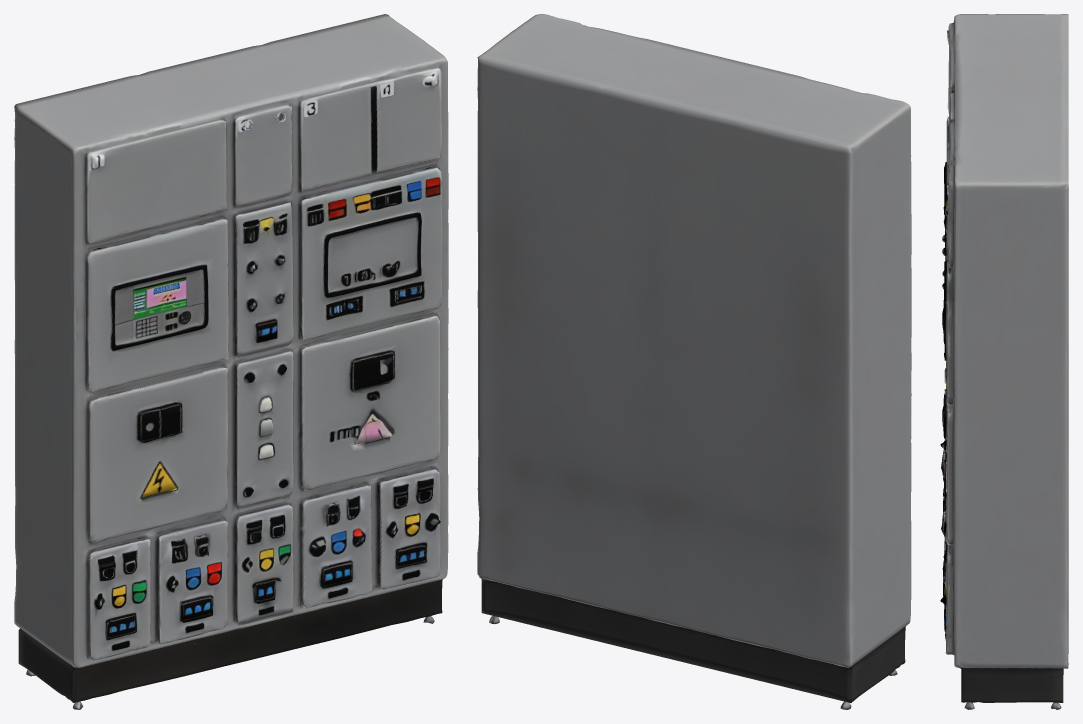
The model's file is electrical_control_panel_unit.glb.
3 views of the same model, side by side, from view 1: azimuth 30°, elevation 25°; view 2: azimuth 150°, elevation 25°; view 3: azimuth 270°, elevation 25° (orthographic). The views are drawn at different scales.
Visible parts, largest first — view 1: Object_2; view 2: Object_2; view 3: Object_2.
Part boxes in pixels (left/top/right/bottom): Object_2: left=14, top=14, right=448, bottom=709; Object_2: left=477, top=14, right=911, bottom=709; Object_2: left=940, top=14, right=1068, bottom=709.
Size of the model in its own units: 1.31 by 1.9 by 0.4166.
1 material, 1 textured.
